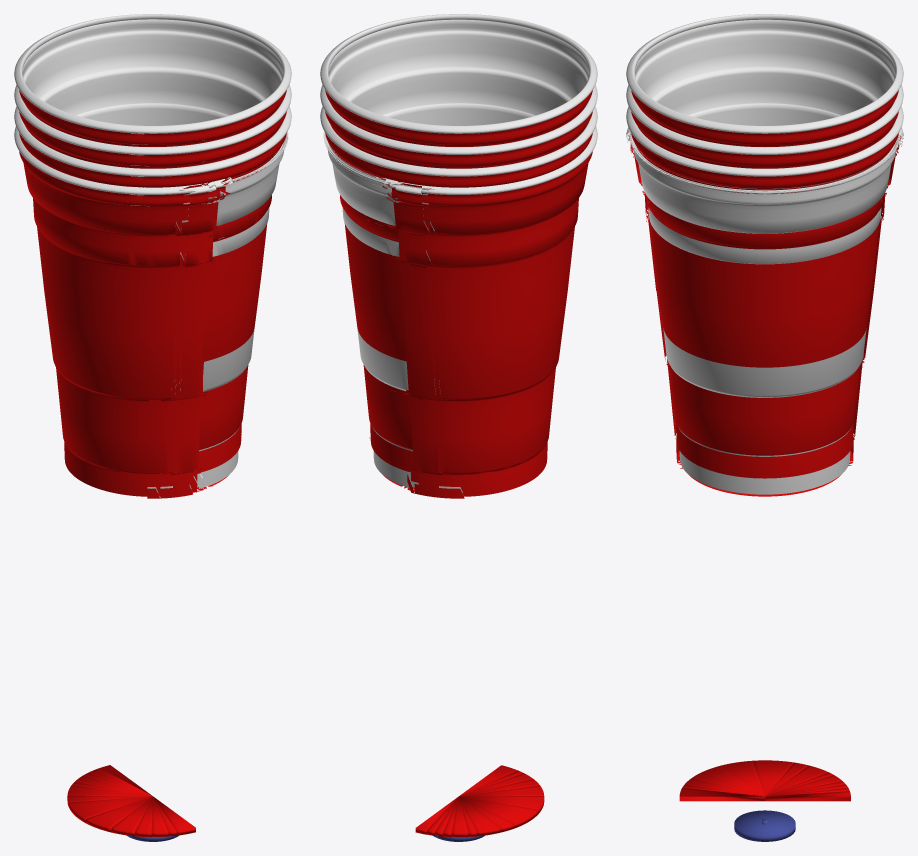
File: cups5.glb
The picture shows the model from 3 angles, left to right: view 1: azimuth 30°, elevation 25°; view 2: azimuth 150°, elevation 25°; view 3: azimuth 270°, elevation 25°; orthographic projection.
Visible parts, largest first — view 1: RedCup_1, BottomCup, HalfCup, BottomCup.002; view 2: RedCup_1, BottomCup, HalfCup, BottomCup.002; view 3: RedCup_1, HalfCup, BottomCup.002, Pressure sensor model, BottomCup.
Boxes of the visible parts, x1,y1,x2,y2 form: RedCup_1: (14, 14, 291, 475); BottomCup: (14, 127, 288, 496); HalfCup: (147, 138, 288, 498); BottomCup.002: (67, 765, 195, 836); RedCup_1: (320, 14, 597, 475); BottomCup: (323, 127, 597, 496); HalfCup: (323, 138, 464, 498); BottomCup.002: (415, 765, 544, 837); RedCup_1: (626, 14, 903, 478); HalfCup: (627, 127, 903, 496); BottomCup.002: (679, 760, 850, 801); Pressure sensor model: (734, 810, 795, 841); BottomCup: (626, 128, 903, 468).
Bounding box in the file's own units: 0.091 × 0.2753 × 0.091.
